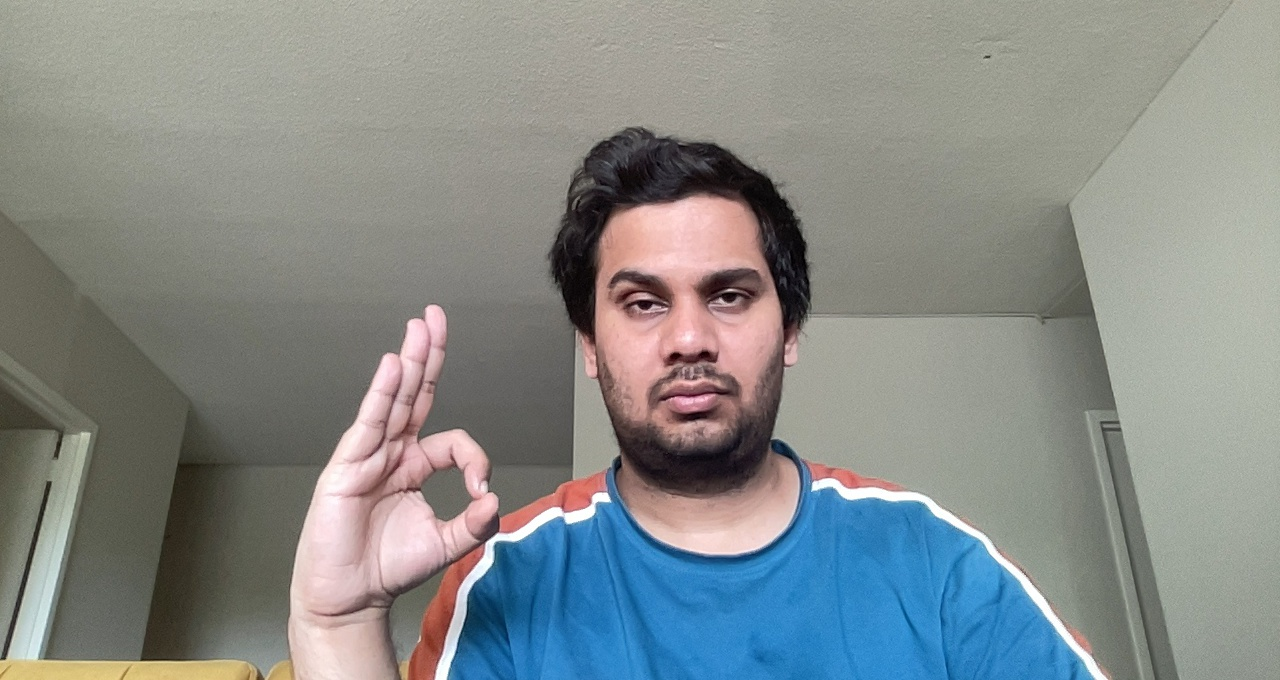ok: (301, 297, 508, 619)
